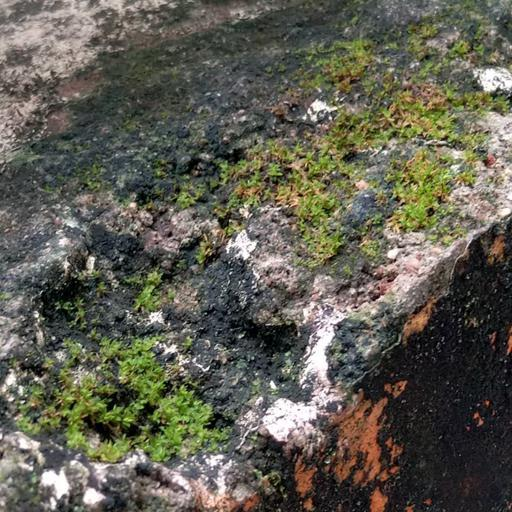algae: (36, 28, 496, 483)
